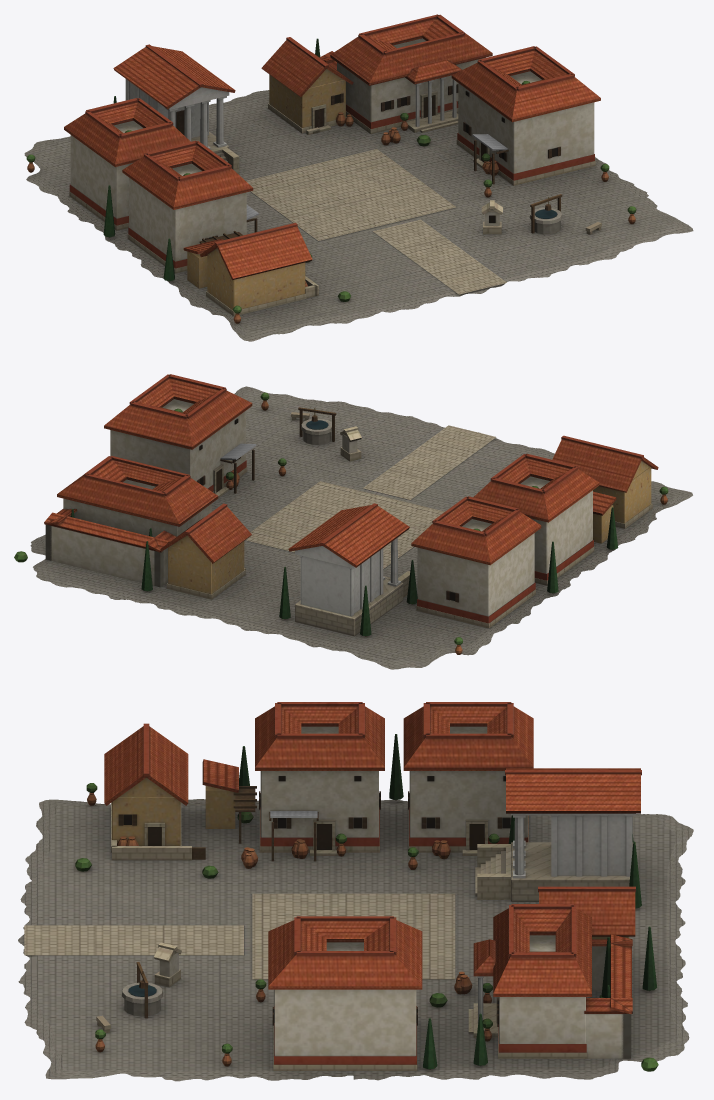
Rendered from classical-town-small-a-europe.glb.
3 renders of one model, top to bottom at view 1: azimuth 30°, elevation 25°; view 2: azimuth 150°, elevation 25°; view 3: azimuth 270°, elevation 25°, orthographic. The views are drawn at different scales.
Parts seen in each view (by area): view 1: LOD0; view 2: LOD0; view 3: LOD0.
Boxes of the visible parts, x1=… form: LOD0: x1=24, y1=14, x2=693, y2=341; LOD0: x1=14, y1=374, x2=692, y2=669; LOD0: x1=18, y1=702, x2=693, y2=1081.
Size of what is drawn, in the model's own units: 4.02 by 0.764 by 4.06.
3 materials, 3 textured.
